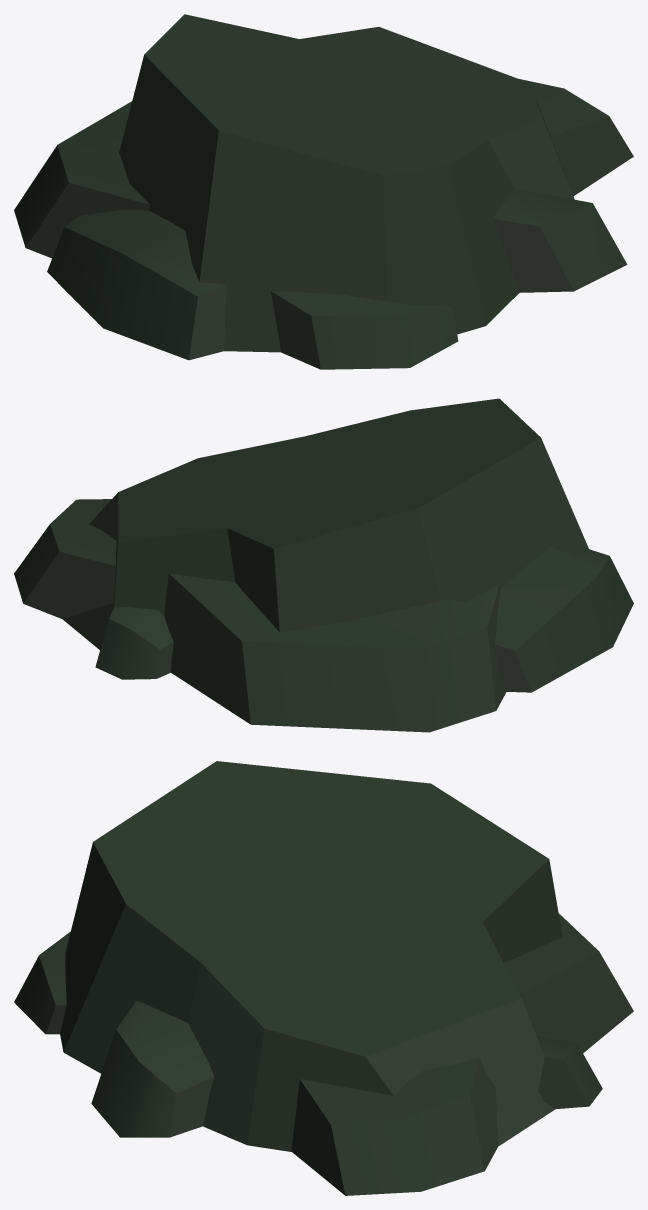
File: SF_Env_Rock_03.glb
The picture shows the model from 3 angles, top to bottom: view 1: azimuth 30°, elevation 25°; view 2: azimuth 150°, elevation 25°; view 3: azimuth 270°, elevation 25°; orthographic projection. The views are drawn at different scales.
Visible parts, largest first — view 1: SF_Env_Rock_03; view 2: SF_Env_Rock_03; view 3: SF_Env_Rock_03.
Boxes of the visible parts, x1,y1,x2,y2 form: SF_Env_Rock_03: (14, 14, 633, 369); SF_Env_Rock_03: (14, 398, 633, 732); SF_Env_Rock_03: (14, 761, 633, 1195).
Size of the model in its own units: 0.0915 by 0.0287 by 0.083.
1 material, 1 textured.
